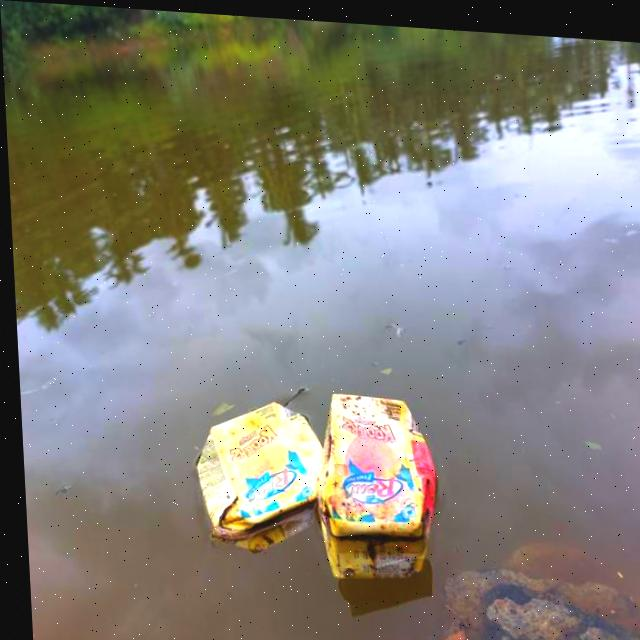paper: (316, 392, 450, 579), (185, 398, 318, 552)
